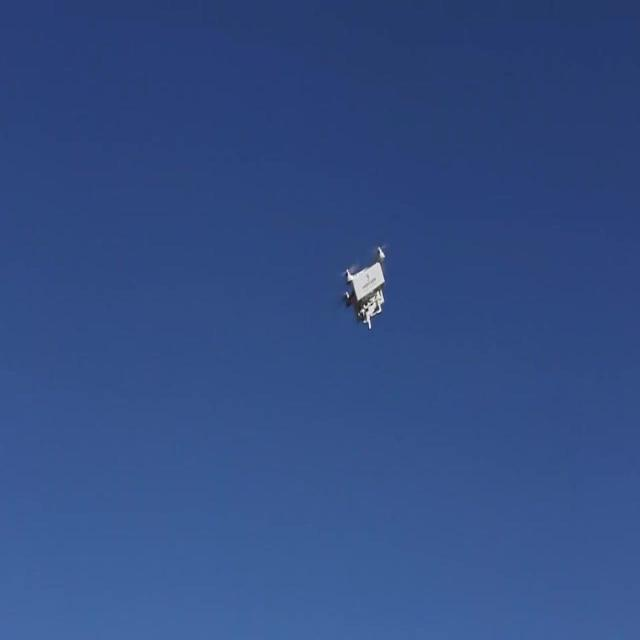drone: (338, 240, 388, 332)
